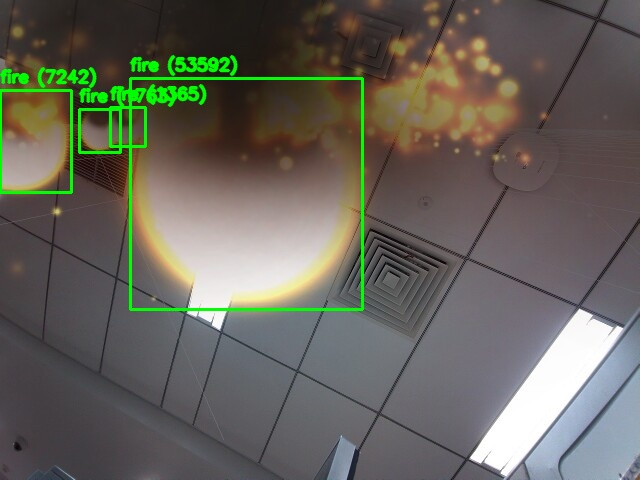fire: (130, 78, 362, 309), (0, 90, 71, 192), (79, 109, 120, 152), (110, 107, 145, 146)
